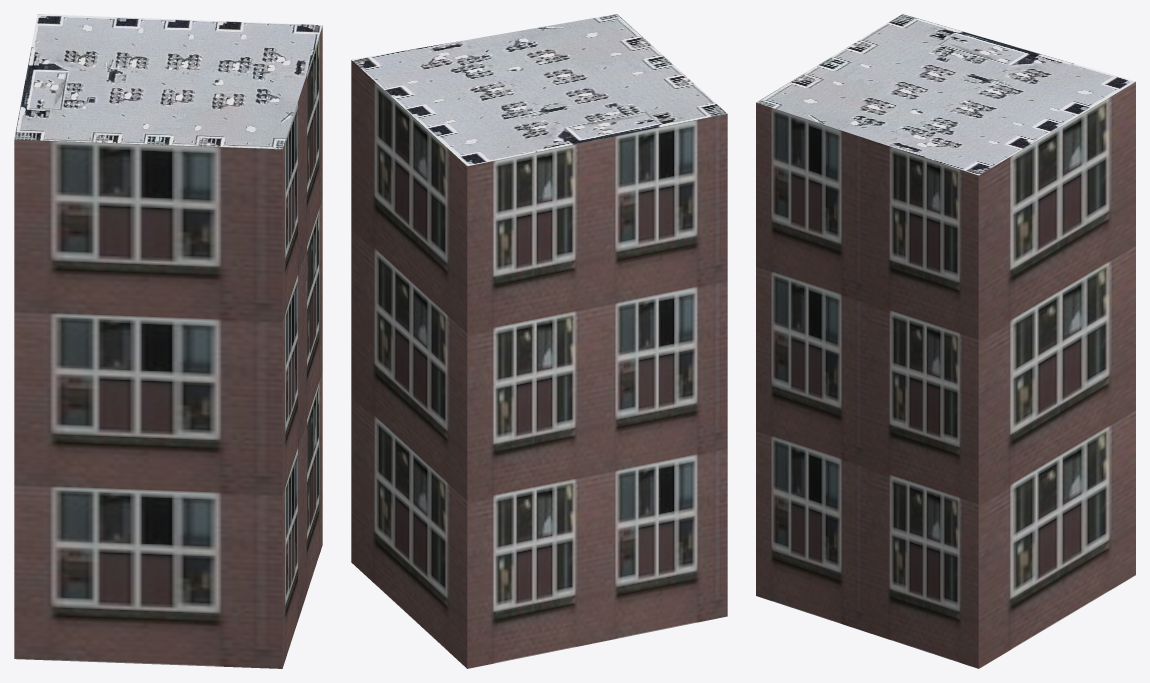
File: ResTex__3811.fbx
3 renders of one model, left to right at view 1: azimuth 30°, elevation 25°; view 2: azimuth 150°, elevation 25°; view 3: azimuth 270°, elevation 25°, orthographic. The views are drawn at different scales.
Parts seen in each view (by area): view 1: CityEngineMaterial_12_m, CityEngineMaterial_4_m; view 2: CityEngineMaterial_12_m, CityEngineMaterial_4_m; view 3: CityEngineMaterial_12_m, CityEngineMaterial_4_m.
Part boxes in pixels (bbox=[...]): CityEngineMaterial_12_m: bbox=[14, 26, 322, 668]; CityEngineMaterial_4_m: bbox=[14, 14, 322, 149]; CityEngineMaterial_12_m: bbox=[351, 60, 727, 668]; CityEngineMaterial_4_m: bbox=[352, 14, 727, 166]; CityEngineMaterial_12_m: bbox=[756, 82, 1135, 668]; CityEngineMaterial_4_m: bbox=[756, 14, 1135, 175].
Size of the model in its own units: 6.32 by 9 by 6.28.
Materials: 2 (2 with a texture image).
